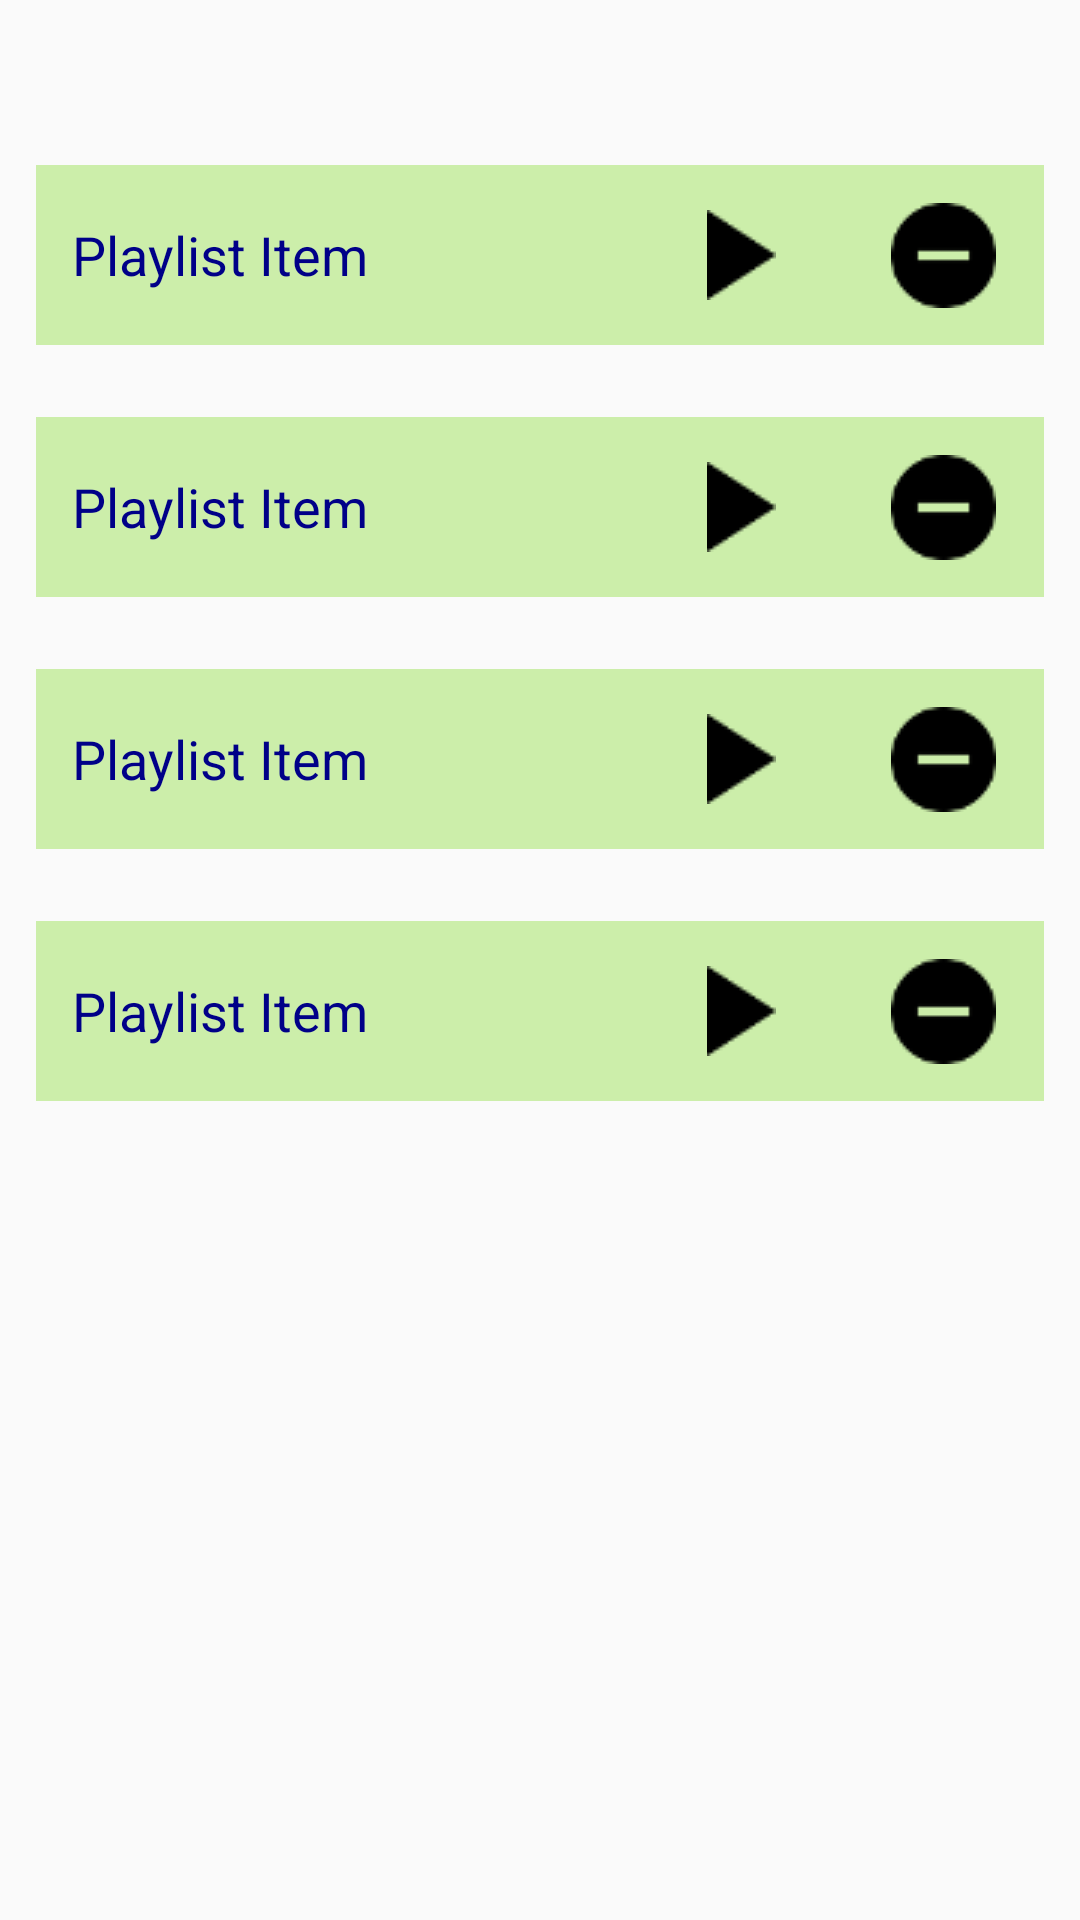

Named icons in this screenshot (1080w x 1920h) and their centers, (x,y):
remove: (943,255), (943,507), (943,759), (943,1011)
